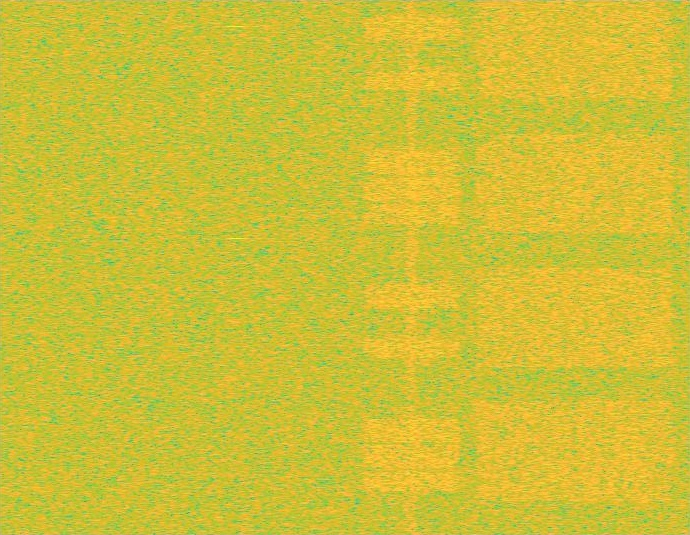5G: (471, 0, 678, 534)
DSSS: (405, 0, 419, 534)
LTE: (360, 0, 464, 534)
Radar: (230, 0, 244, 534)
